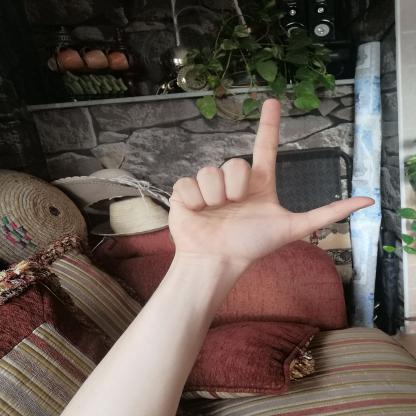LAAM: (155, 90, 386, 267)
